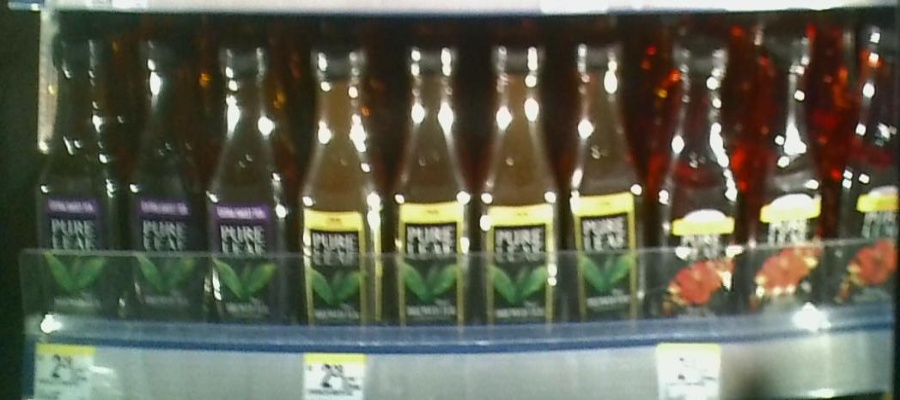bottle: (473, 27, 562, 341), (34, 25, 124, 331), (296, 41, 387, 338), (654, 31, 743, 333), (204, 40, 294, 334), (566, 36, 650, 336), (392, 43, 472, 344), (749, 29, 826, 330), (126, 32, 202, 333), (830, 28, 900, 331)
